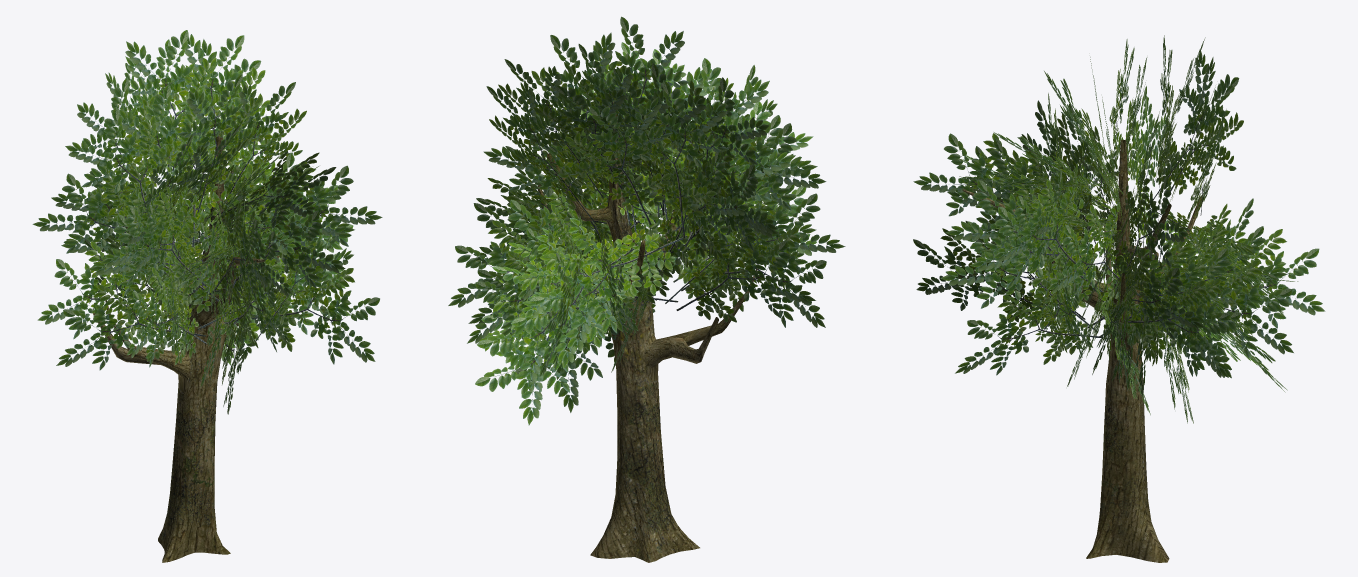
Rendered from tree1.FBX.
3 views of the same model, side by side, from view 1: azimuth 30°, elevation 25°; view 2: azimuth 150°, elevation 25°; view 3: azimuth 270°, elevation 25° (orthographic). The views are drawn at different scales.
Parts seen in each view (by area): view 1: backfaceleaves, tree1UV; view 2: backfaceleaves, tree1UV; view 3: backfaceleaves, tree1UV.
Boxes of the visible parts, x1,y1,x2,y2 form: backfaceleaves: (32, 30, 382, 414); tree1UV: (92, 136, 279, 562); backfaceleaves: (448, 16, 845, 425); tree1UV: (537, 101, 757, 562); backfaceleaves: (913, 35, 1325, 423); tree1UV: (962, 140, 1201, 562).
Size of the model in its own units: 624 by 855 by 676.
